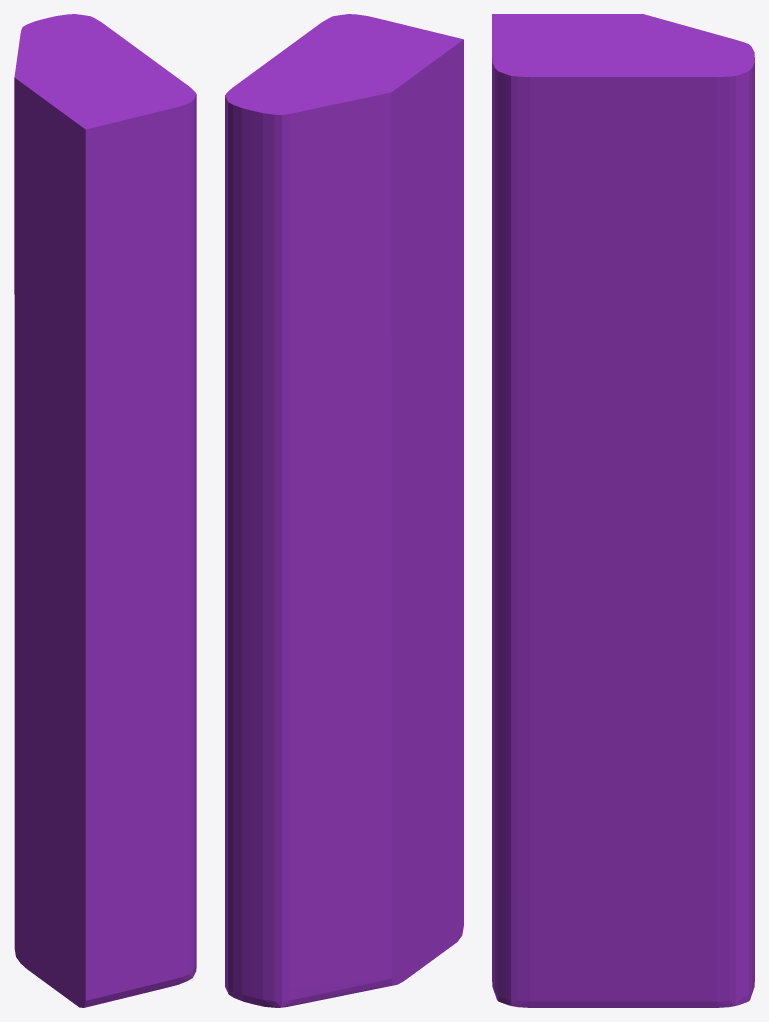
File: arch_peg_convex_coll_001.obj
3 renders of one model, left to right at view 1: azimuth 30°, elevation 25°; view 2: azimuth 150°, elevation 25°; view 3: azimuth 270°, elevation 25°, orthographic. The views are drawn at different scales.
Bounding box in the file's own units: 0.0216 × 0.1493 × 0.038.
